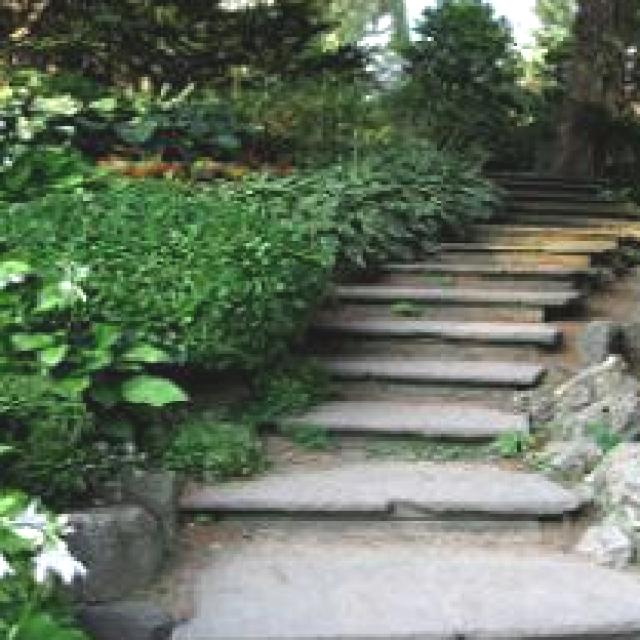upstair: (161, 278, 623, 595)
